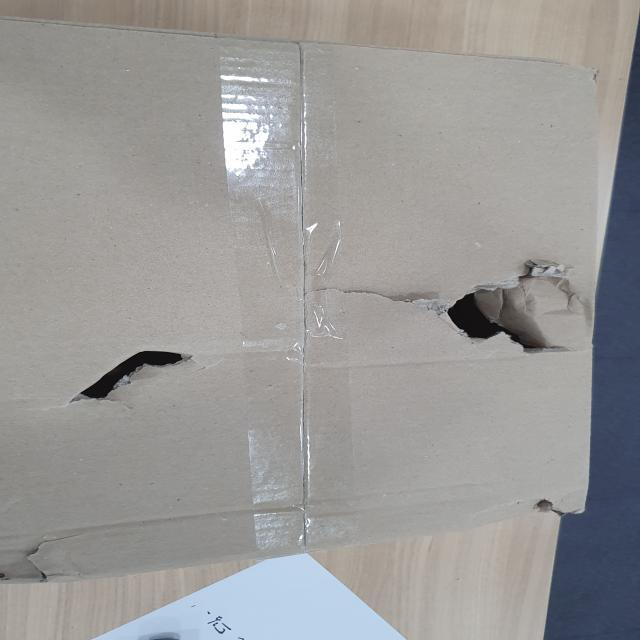hole: (428, 258, 588, 368), (61, 345, 215, 409)
